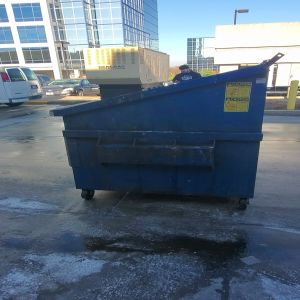Dumpster: (59, 82, 265, 213)
Person: (173, 64, 202, 84)
